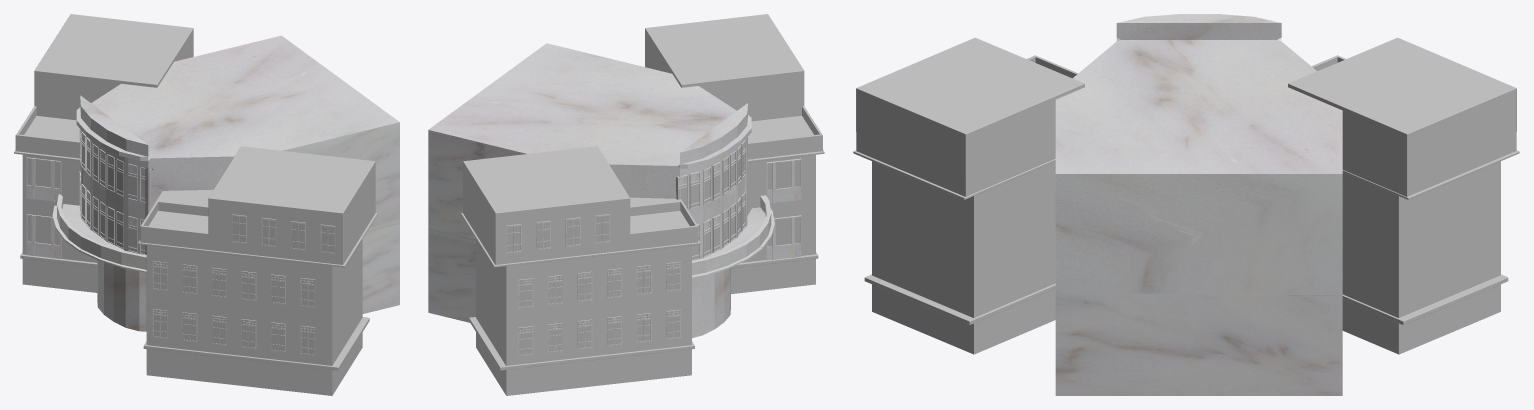
The model's file is House Of The City.fbx.
3 renders of one model, left to right at view 1: azimuth 30°, elevation 25°; view 2: azimuth 150°, elevation 25°; view 3: azimuth 270°, elevation 25°, orthographic. The views are drawn at different scales.
Visible parts, largest first — view 1: Cube, Cylinder, Cube.012, Cube.010, Cube.003, Cube.007, Cube.004, Cube.008, Cube.005; view 2: Cube, Cylinder, Cube.001, Cube.009, Cube.002, Cube.005, Cube.004, Cube.006, Cube.007; view 3: Cylinder, Cube.
Boxes of the visible parts, bbox=[...] form: Cube: bbox=[14, 14, 377, 395]; Cylinder: bbox=[52, 35, 399, 331]; Cube.012: bbox=[152, 261, 315, 355]; Cube.010: bbox=[232, 214, 335, 253]; Cube.003: bbox=[26, 157, 61, 258]; Cube.007: bbox=[106, 154, 123, 249]; Cube.004: bbox=[92, 143, 105, 240]; Cube.008: bbox=[128, 163, 150, 254]; Cube.005: bbox=[81, 131, 90, 228]; Cube: bbox=[461, 14, 824, 395]; Cylinder: bbox=[428, 43, 774, 337]; Cube.001: bbox=[518, 261, 680, 356]; Cube.009: bbox=[766, 158, 801, 260]; Cube.002: bbox=[506, 214, 610, 253]; Cube.005: bbox=[703, 162, 720, 257]; Cube.004: bbox=[722, 151, 736, 247]; Cube.006: bbox=[676, 171, 699, 260]; Cube.007: bbox=[737, 139, 745, 237]; Cylinder: bbox=[1055, 14, 1342, 395]; Cube: bbox=[853, 37, 1519, 354].
Size of the model in its own units: 2391 by 1356 by 948.
